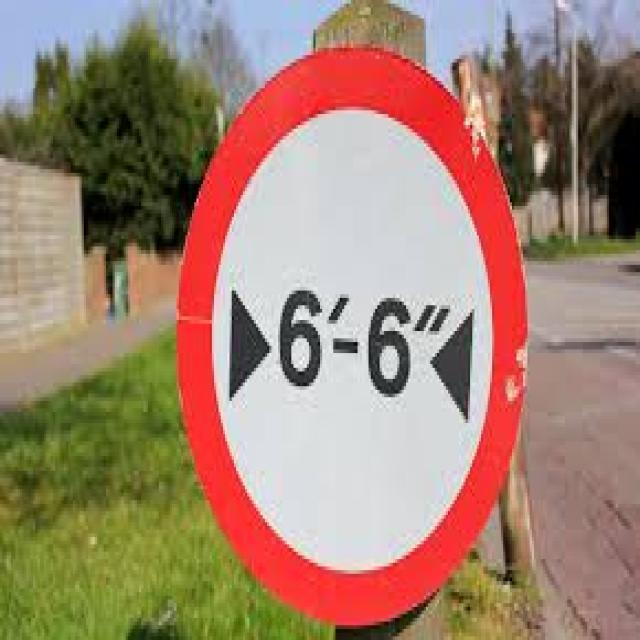width limit: (170, 49, 532, 619)
